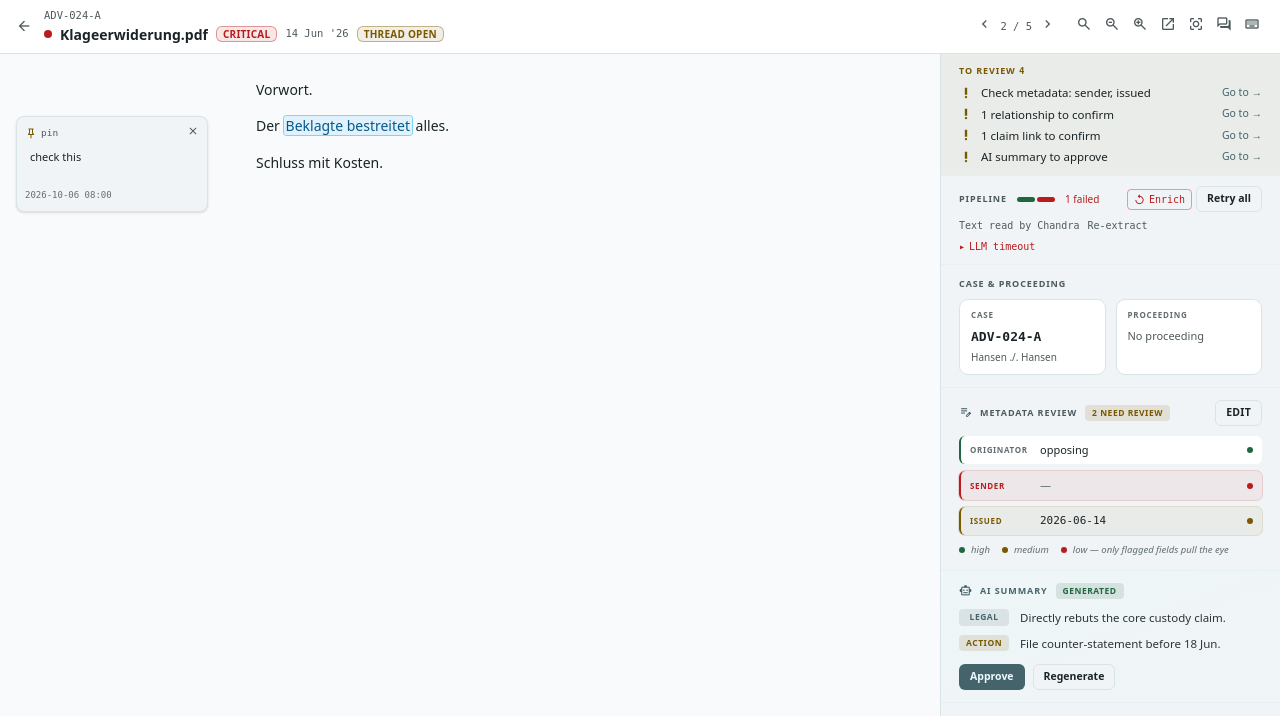
Scenario: find counts matches in the body
This screenshot has width=1280, height=716.
Check: the heading "Klageerwiderung.pdf" is shown, box x1=60 y1=24 x2=208 y2=45
Click the button named "Find in document (⌘F)".
click(1084, 26)  # box x1=1072 y1=12 x2=1096 y2=41
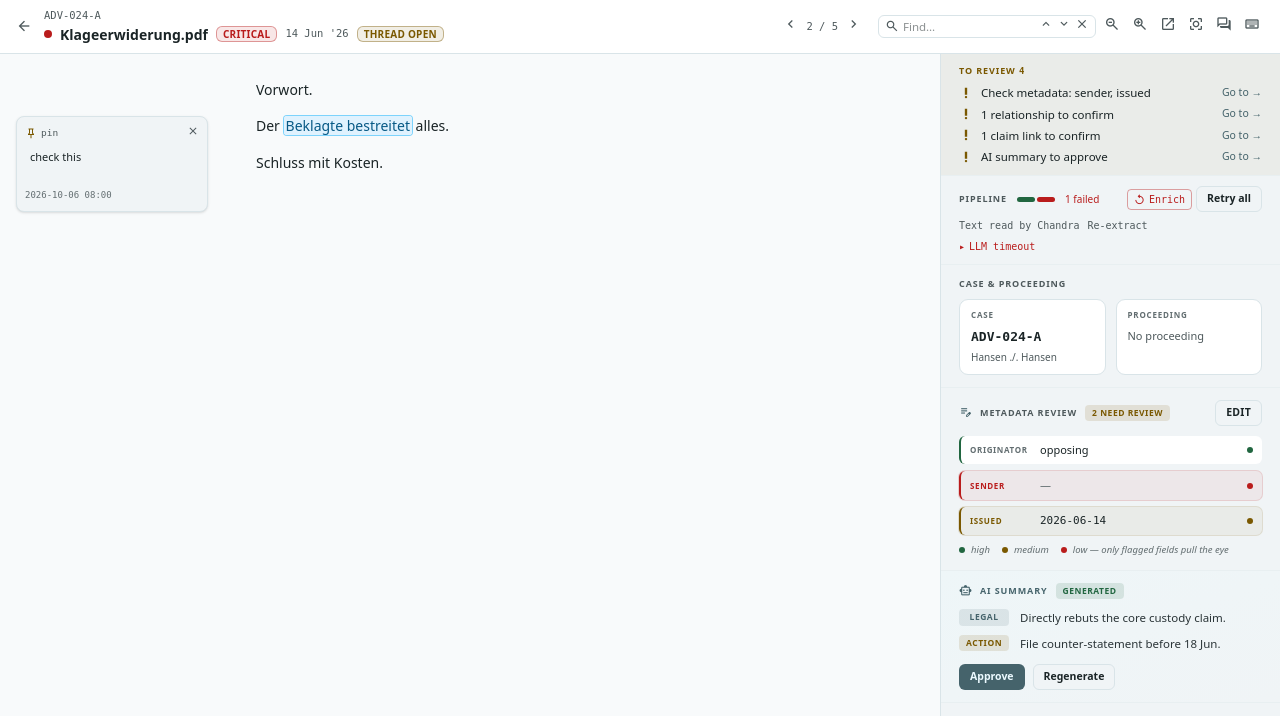
Type "kosten" into the field named "Find in document".
click(967, 26); type("kosten")  # box x1=903 y1=16 x2=1031 y2=37
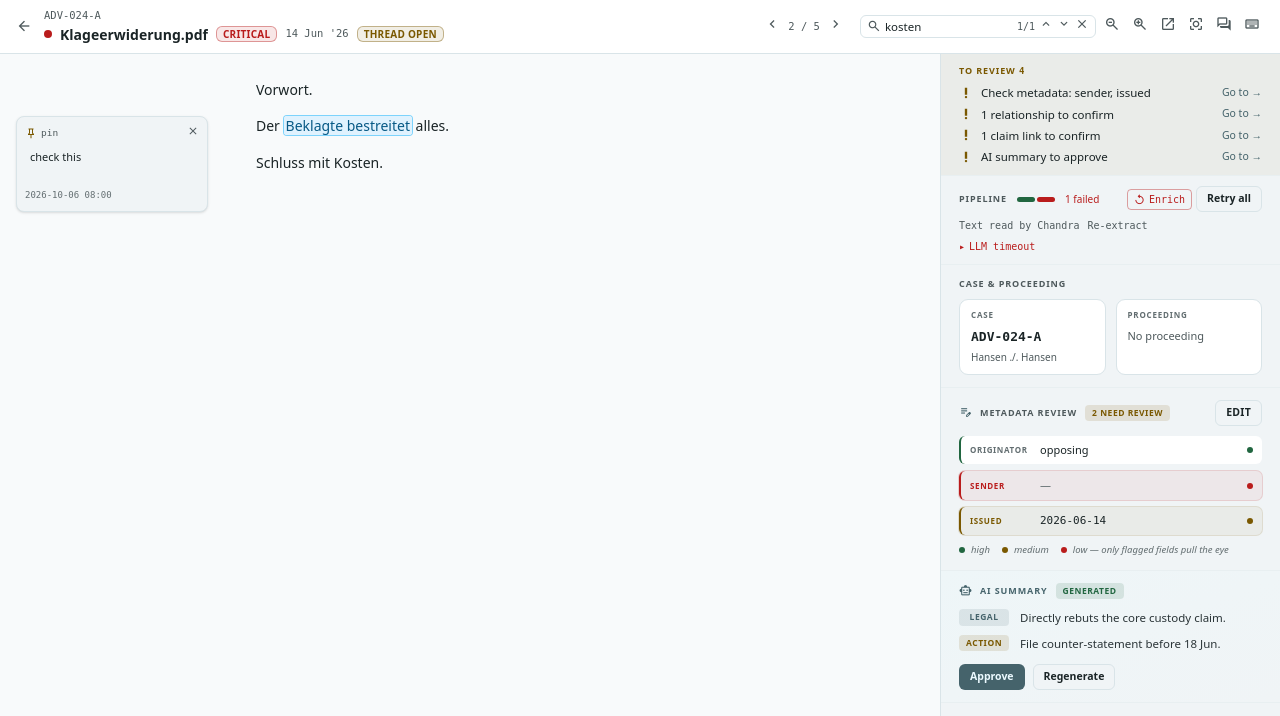
Check: the text "1/1" is shown, box x1=1017 y1=19 x2=1035 y2=34
